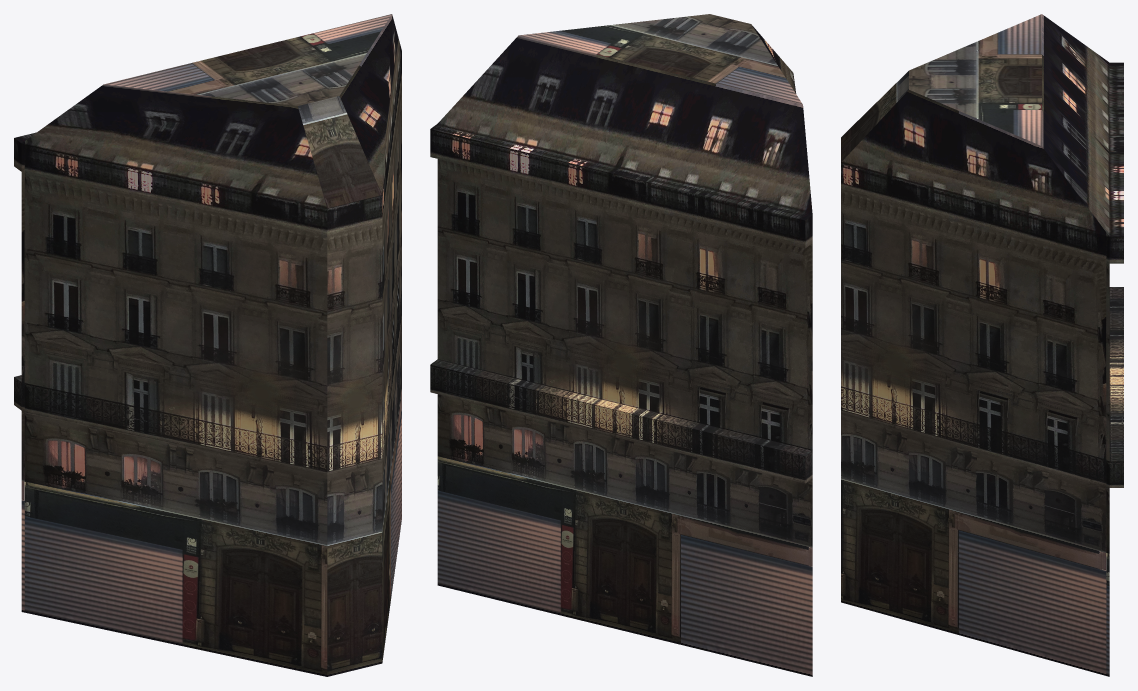
Rendered from Generic4.fbx.
The picture shows the model from 3 angles, left to right: view 1: azimuth 30°, elevation 25°; view 2: azimuth 150°, elevation 25°; view 3: azimuth 270°, elevation 25°; orthographic projection. The views are drawn at different scales.
Visible parts, largest first — view 1: Generic4; view 2: Generic4; view 3: Generic4.
Boxes of the visible parts, x1,y1,x2,y2 form: Generic4: [14, 14, 401, 676]; Generic4: [430, 14, 812, 676]; Generic4: [841, 14, 1123, 676].
Size of the model in its own units: 16.1 by 11.03 by 21.95.
1 material, 1 textured.
